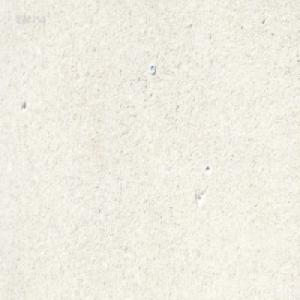Washer: (149, 62, 156, 74)
